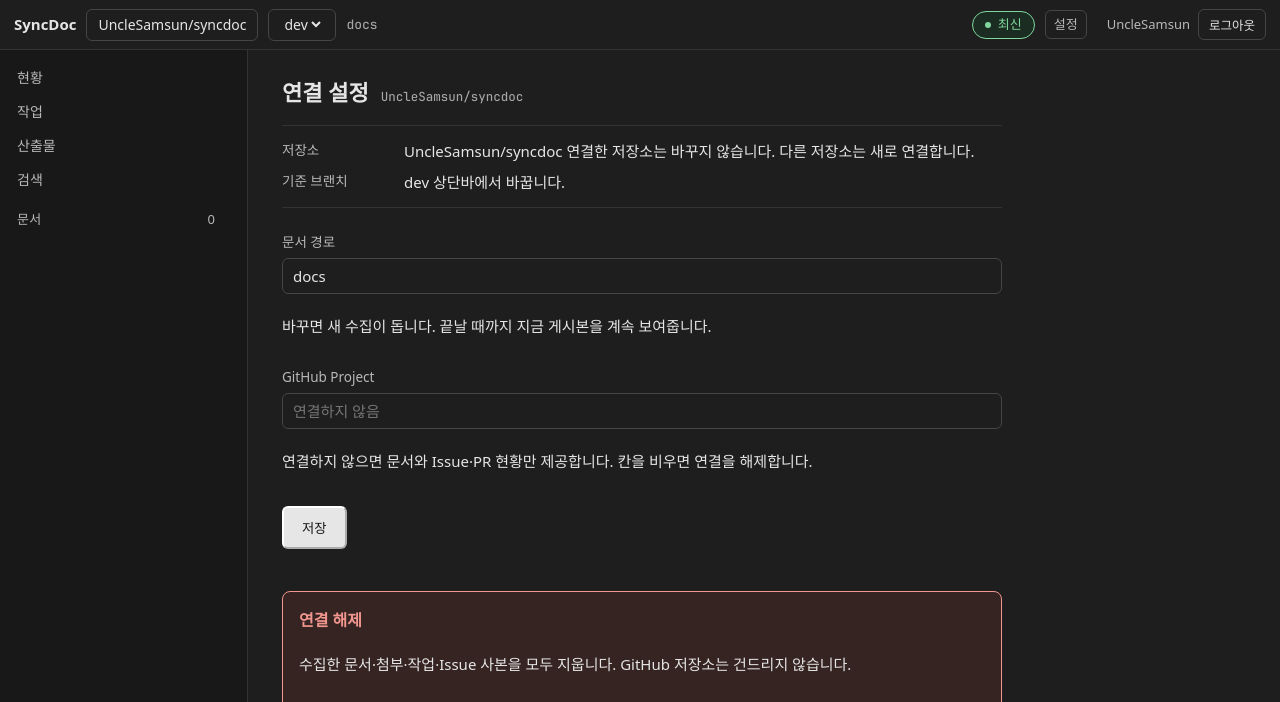
UI-015 연결 설정 › does not resend what the reader typed after a version conflict
Step 1. Replace the text in the field labelled "문서 경로" with "spec" → point(642, 276), box [282,258,1002,294]
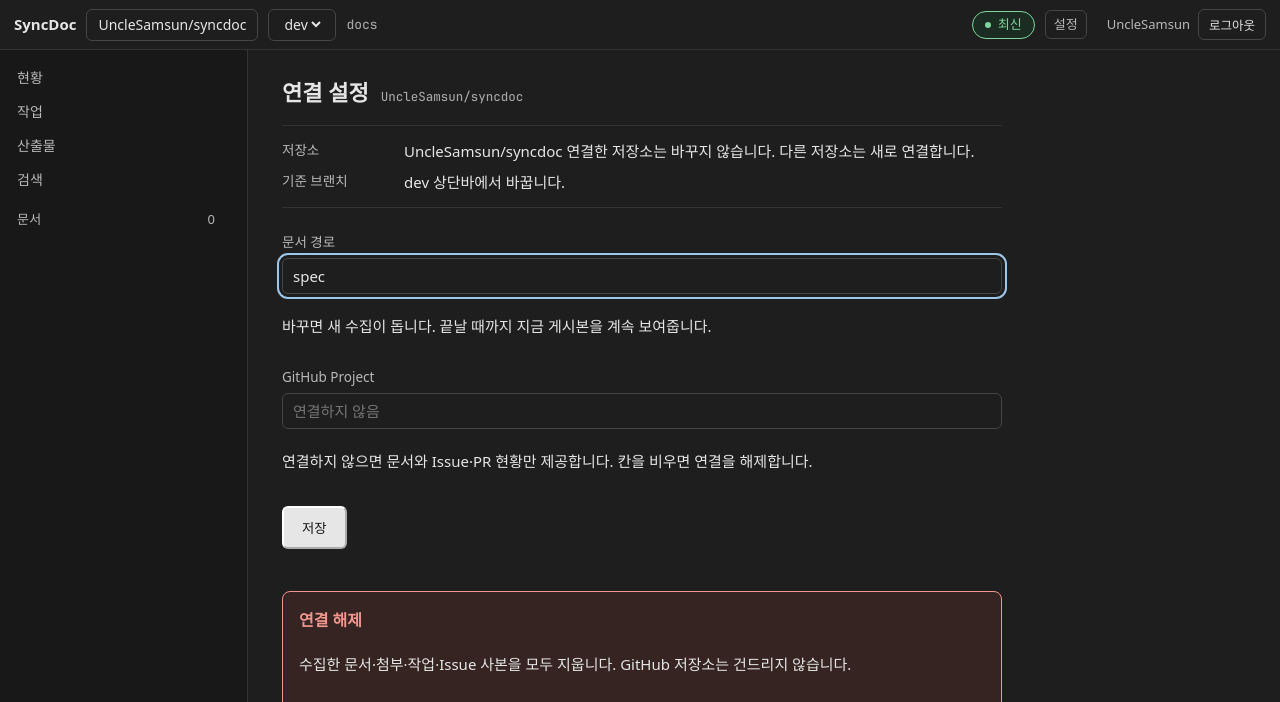
Step 2. Click the button "저장" → point(314, 527), box [282,506,346,548]
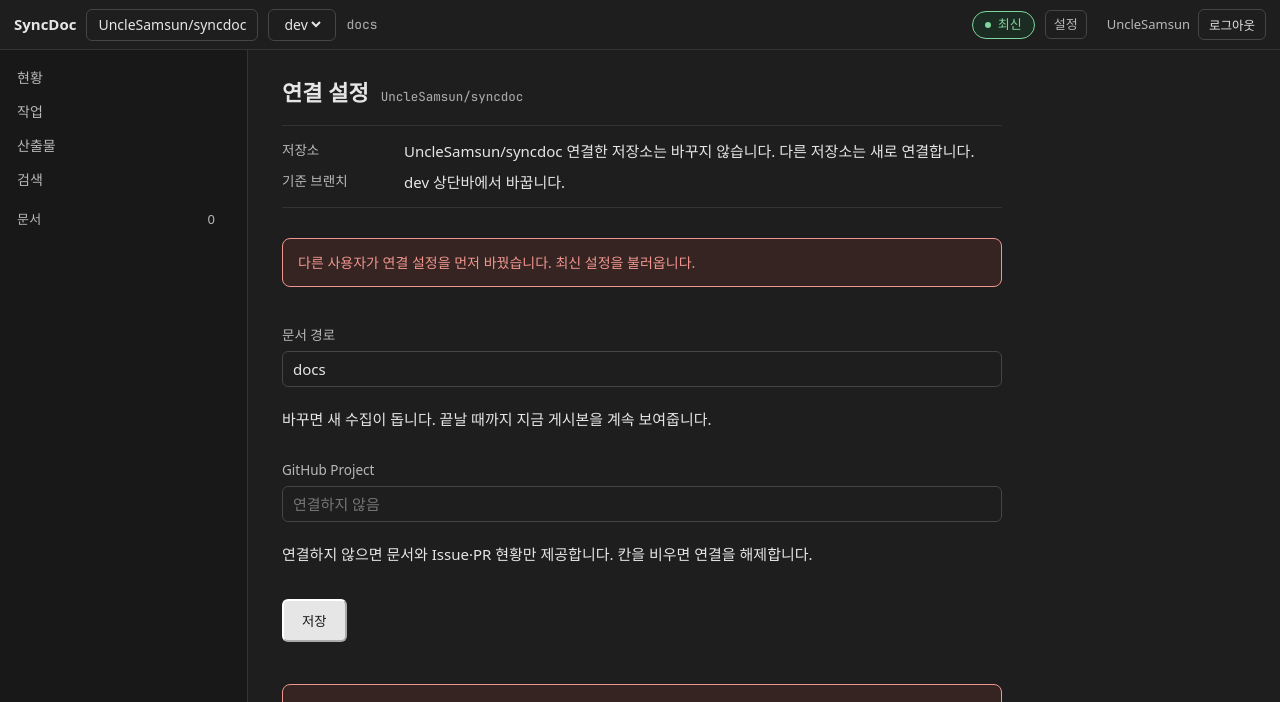
Check: the text "다른 사용자가 연결 설정을 먼저 바꿨습니다. 최신 설정을 불러옵니다." is shown, box [282,238,1002,287]
Check: the field labelled "문서 경로" holds "docs", box [282,351,1002,387]
